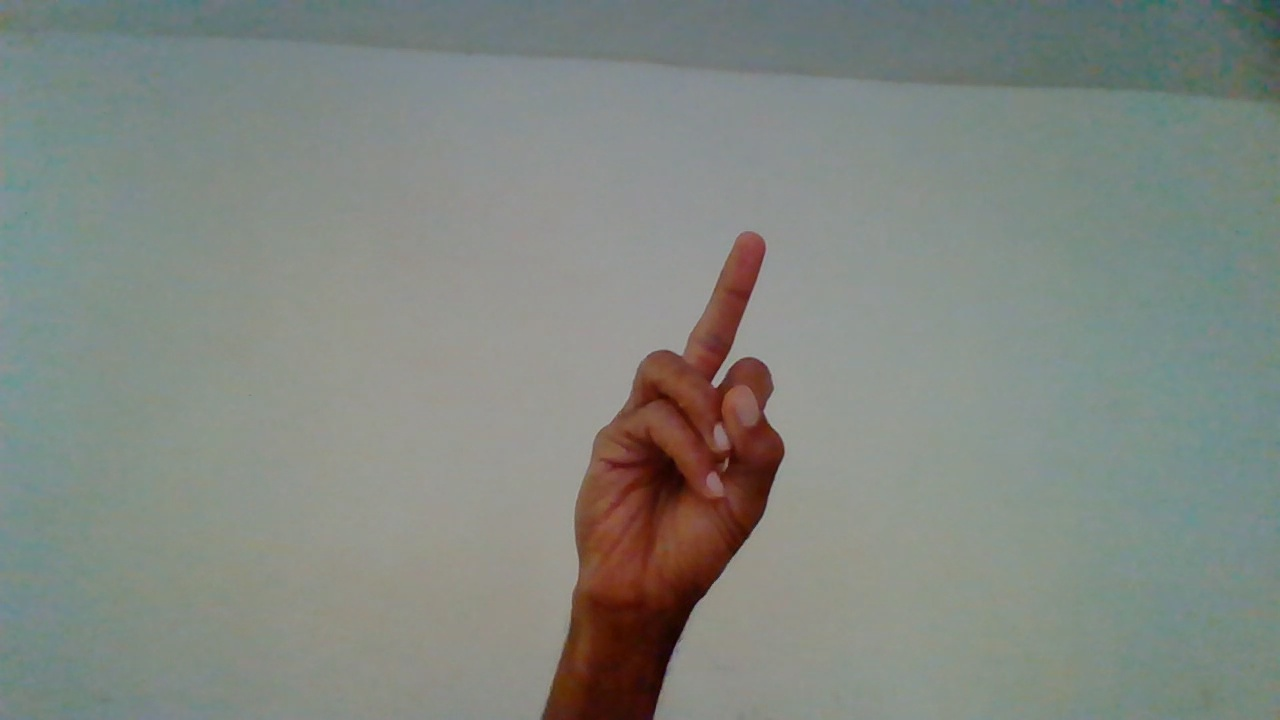he: (564, 233, 795, 666)
